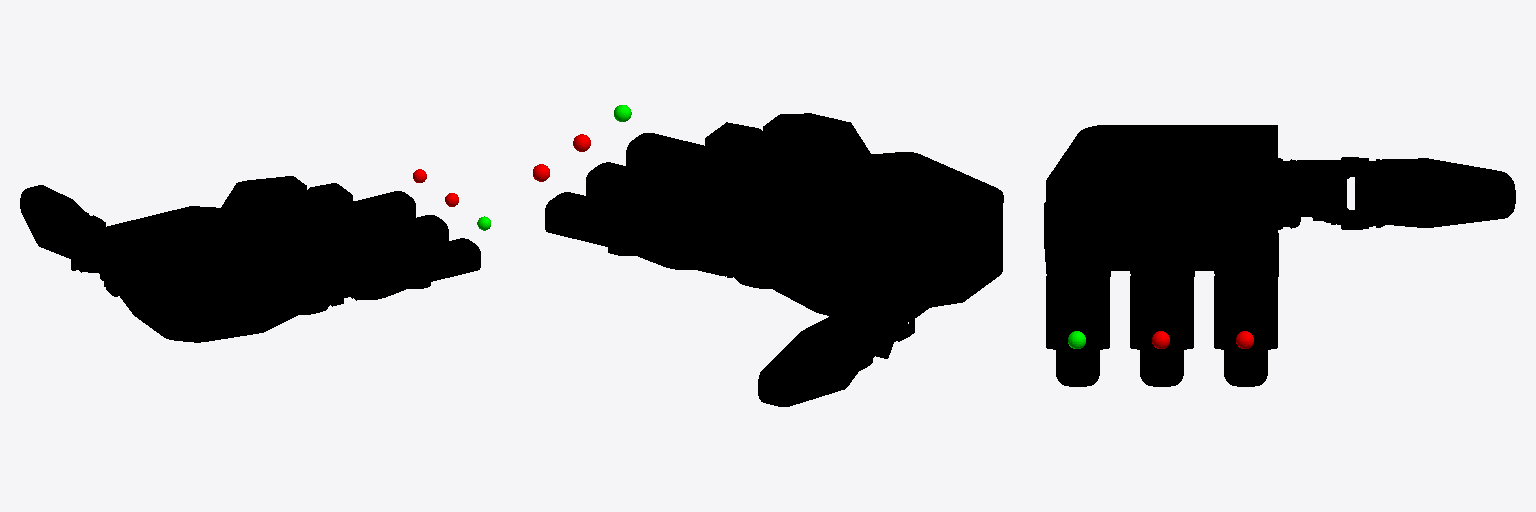
--- Facts derived from the render (not from the file) ---
3 views of the same robot in one strip: view 1: azimuth 30°, elevation 25°; view 2: azimuth 150°, elevation 25°; view 3: azimuth 270°, elevation 25° (orthographic).
Robot: leap_hand_right — 21 links, 20 joints (16 revolute, 4 fixed); root link palm_lower; default pose: all joints at 0.
Visible links, largest first — view 1: palm_lower, mcp_joint_3, thumb_fingertip, dip_3, fingertip_3, mcp_joint, mcp_joint_2, thumb_dip, fingertip, fingertip_2, dip_2, dip; view 2: palm_lower, mcp_joint, thumb_fingertip, dip, mcp_joint_3, mcp_joint_2, fingertip, thumb_dip, fingertip_3, fingertip_2, dip_2, dip_3 (+2 smaller); view 3: palm_lower, thumb_fingertip, thumb_dip, mcp_joint, mcp_joint_2, mcp_joint_3, fingertip, fingertip_2, fingertip_3, dip_2, dip_3, dip.
Link boxes in pixels (box(x1,y1,x2,y2)): palm_lower: box(97, 206, 303, 342); mcp_joint_3: box(286, 223, 370, 314); thumb_fingertip: box(20, 185, 86, 258); dip_3: box(352, 230, 417, 299); fingertip_3: box(399, 238, 480, 288); mcp_joint: box(221, 176, 306, 228); mcp_joint_2: box(254, 200, 338, 251); thumb_dip: box(71, 212, 111, 285); fingertip: box(353, 191, 415, 224); fingertip_2: box(386, 215, 448, 248); dip_2: box(339, 206, 385, 236); dip: box(307, 183, 352, 212); palm_lower: box(767, 152, 1003, 315); mcp_joint: box(682, 173, 788, 288); thumb_fingertip: box(758, 317, 866, 406); dip: box(624, 182, 706, 269); mcp_joint_3: box(763, 113, 870, 180); mcp_joint_2: box(723, 143, 829, 210); fingertip: box(545, 192, 645, 255); thumb_dip: box(829, 289, 907, 370); fingertip_3: box(626, 133, 704, 174); fingertip_2: box(586, 162, 663, 204); dip_2: box(664, 152, 722, 190); dip_3: box(705, 122, 762, 160); palm_lower: box(1046, 125, 1277, 270); thumb_fingertip: box(1355, 158, 1515, 227); thumb_dip: box(1278, 157, 1386, 229); mcp_joint: box(1212, 189, 1278, 276); mcp_joint_2: box(1128, 189, 1194, 276); mcp_joint_3: box(1044, 189, 1110, 276); fingertip: box(1214, 304, 1277, 386); fingertip_2: box(1130, 304, 1193, 386); fingertip_3: box(1046, 304, 1109, 386); dip_2: box(1130, 269, 1193, 313); dip_3: box(1046, 269, 1109, 313); dip: box(1214, 269, 1277, 313).
Size in the robot's own frame: 0.258 by 0.2548 by 0.0632 metres.
17 mesh visuals loaded from 8 distinct referenced files (8 OBJ).

robot.urdf — leap_hand_right:
<robot name="leap_hand_right">
    <link name="palm_lower">
        <visual>
            <origin xyz="-0.020095249652862544332 0.025757756134899473244 -0.034722403578460216134" rpy="0 -0 0" />
            <geometry>
                <mesh filename="meshes/visual/palm_lower.obj"/>
            </geometry>
            <material name="palm_lower_material">
                <color rgba="0 0 0 1.0"/>
            </material>
        </visual>
        <collision>
            <origin xyz="-0.020095249652862544332 0.025757756134899473244 -0.034722403578460216134" rpy="0 -0 0" />
            <geometry>
                <mesh filename="meshes/collision/palm_lower.obj"/>
            </geometry>
        </collision>
        <inertial>
            <origin xyz="0 0 0" rpy="0 0 0"/>
            <mass value="0.237" />
            <inertia ixx="0.000354094" ixy="-0.000001193"  ixz="-0.000002445" iyy="0.000260915" iyz="-0.000002905" izz="0.000529257" />
        </inertial>
    </link>

    <link name="mcp_joint">
        <visual>
            <origin xyz="0.0084069022611744960438 0.0077662438597169954416 0.014657354985032912051" rpy="1.6375789613220999807e-15 -1.0210473302491019535e-30 1.7177968783327987474e-31" />
            <geometry>
                <mesh filename="meshes/visual/mcp_joint.obj"/>
            </geometry>
            <material name="mcp_joint_material">
                <color rgba="0 0 0 1.0"/>
            </material>
        </visual>
        <collision>
            <origin xyz="0.0084069022611744960438 0.0077662438597169954416 0.014657354985032912051" rpy="1.6375789613220999807e-15 -1.0210473302491019535e-30 1.7177968783327987474e-31" />
            <geometry>
                <mesh filename="meshes/collision/mcp_joint.obj"/>
            </geometry>
        </collision>
        <inertial>
            <origin xyz="0 0 0" rpy="0 0 0"/>
            <mass value="0.044" />
            <inertia ixx="0.000011499" ixy="0.000003049"  ixz="0.000000121" iyy="0.000007796" iyz="0.000000112" izz="0.000014759" />
        </inertial>
    </link>

<link name="pip">
    <visual>
        <origin xyz="0.0096433630922713280131 0.00029999999999998951117 0.00078403401041737645627" rpy="-1.570796326794896558 -1.570796326794896336 0" />
        <geometry>
            <mesh filename="meshes/visual/pip.obj"/>
        </geometry>
        <material name="pip_material">
            <color rgba="0 0 0 1.0"/>
        </material>
    </visual>
    <collision>
        <origin xyz="0.0096433630922713280131 0.00029999999999998951117 0.00078403401041737645627" rpy="-1.570796326794896558 -1.570796326794896336 0" />
        <geometry>
            <mesh filename="meshes/collision/pip.obj"/>
        </geometry>
    </collision>
    <inertial>
        <origin xyz="0 0 0" rpy="0 0 0"/>
        <mass value="0.032" />
        <inertia ixx="0.000004798" ixy="0.000000012"  ixz="0.000000004" iyy="0.000002862" iyz="0.000000011" izz="0.000004234" />
    </inertial>
</link>

<link name="dip">
    <visual>
        <origin xyz="0.021133352895225002849 -0.0084321191467048792201 0.0097850881620952408213" rpy="-3.141592653589793116 4.5075111242164408299e-32 4.4395481053923607589e-32" />
        <geometry>
            <mesh filename="meshes/visual/dip.obj"/>
        </geometry>
        <material name="dip_material">
            <color rgba="0 0 0 1.0"/>
        </material>
    </visual>
    <collision>
        <origin xyz="0.021133352895225002849 -0.0084321191467048792201 0.0097850881620952408213" rpy="-3.141592653589793116 4.5075111242164408299e-32 4.4395481053923607589e-32" />
        <geometry>
            <mesh filename="meshes/collision/dip.obj"/>
        </geometry>
    </collision>
    <inertial>
        <origin xyz="0 0 0" rpy="0 0 0"/>
        <mass value="0.037" />
        <inertia ixx="0.000005542" ixy="-0.000000607"  ixz="-0.000000017" iyy="0.000005727" iyz="-0.000000023" izz="0.000006682" />
    </inertial>
</link>

<link name="fingertip">
    <visual>
        <origin xyz="0.013286424108533503169 -0.0061142383865419869249 0.014499999999999497666" rpy="3.141592653589793116 1.1993117970061734707e-33 4.4395481053923607589e-32" />
        <geometry>
            <mesh filename="meshes/visual/fingertip.obj"/>
        </geometry>
        <material name="fingertip_material">
            <color rgba="0 0 0 1.0"/>
        </material>
    </visual>
    <collision>
        <origin xyz="0.013286424108533503169 -0.0061142383865419869249 0.014499999999999497666" rpy="3.141592653589793116 1.1993117970061734707e-33 4.4395481053923607589e-32" />
        <geometry>
            <mesh filename="meshes/collision/fingertip.obj"/>
        </geometry>
    </collision>
    <inertial>
        <origin xyz="0 0 0" rpy="0 0 0"/>
        <mass value="0.016" />
        <inertia ixx="0.000003368" ixy="0.000000115"  ixz="0" iyy="0.000001556" iyz="0" izz="0.000002863" />
    </inertial>
</link>

<joint name="0" type="revolute">
    <origin xyz="-0.012200000000000007713 0.038099999999999994982 0.014500000000000000736" rpy="-1.570796326794896558 -1.0065212660796336576e-15 1.5707963267948943376" />
    <parent link="mcp_joint" />
    <child link="pip" />
    <axis xyz="0 0 -1"/>
    <limit effort="0.95" velocity="8.48" lower = "-1.047" upper = "1.047"/>
    <joint_properties friction="0.0"/>
</joint>

<joint name="1" type="revolute">
    <origin xyz="-0.0070952496528625457958 0.023057756134899472233 -0.01872240357846021927" rpy="1.5707963267948950037 1.5707963267948945596 0" />
    <parent link="palm_lower" />
    <child link="mcp_joint" />
    <axis xyz="0 0 -1"/>
    <limit effort="0.95" velocity="8.48" lower = "-0.314" upper = "2.23"/>
    <joint_properties friction="0.0"/>
</joint>

<joint name="2" type="revolute">
    <origin xyz="0.01499999999999996822 0.014299999999999904801 -0.012999999999999824196" rpy="1.5707963267948958919 -1.570796326794896336 0" />
    <parent link="pip" />
    <child link="dip" />
    <axis xyz="0 0 -1"/>
    <limit effort="0.95" velocity="8.48" lower = "-0.506" upper = "1.885"/>
    <joint_properties friction="0.0"/>
</joint>

<joint name="3" type="revolute">
    <origin xyz="-4.0880582495572692636e-09 -0.036100004210367367397 0.00020000000000007858714" rpy="4.5935029425113685044e-17 -2.8730071914463794583e-16 4.4395481053923607589e-32" />
    <parent link="dip" />
    <child link="fingertip" />
    <axis xyz="0 0 -1"/>
    <limit effort="0.95" velocity="8.48" lower = "-0.366" upper = "2.042"/>
    <joint_properties friction="0.0"/>
</joint>

<link name="mcp_joint_2">
    <visual>
        <origin xyz="0.0084069022611744960438 0.0077662438597169954416 0.014657354985032913786" rpy="1.6375789613220999807e-15 -1.0076465469034000467e-30 2.1209300131419907151e-61" />
        <geometry>
            <mesh filename="meshes/visual/mcp_joint.obj"/>
        </geometry>
        <material name="mcp_joint_material">
            <color rgba="0 0 0 1.0"/>
        </material>
    </visual>
    <collision>
        <origin xyz="0.0084069022611744960438 0.0077662438597169954416 0.014657354985032913786" rpy="1.6375789613220999807e-15 -1.0076465469034000467e-30 2.1209300131419907151e-61" />
        <geometry>
            <mesh filename="meshes/collision/mcp_joint.obj"/>
        </geometry>
    </collision>
    <inertial>
        <origin xyz="0 0 0" rpy="0 0 0"/>
        <mass value="0.044" />
        <inertia ixx="0.000011499" ixy="0.000003049"  ixz="0.000000121" iyy="0.000007796" iyz="0.000000112" izz="0.000014759" />
    </inertial>
</link>

<link name="pip_2">
    <visual>
        <origin xyz="0.0096433630922713280131 0.00029999999999999471534 0.00078403401041737645627" rpy="-1.570796326794896558 -1.570796326794896336 0" />
        <geometry>
            <mesh filename="meshes/visual/pip.obj"/>
        </geometry>
        <material name="pip_material">
            <color rgba="0 0 0 1.0"/>
        </material>
    </visual>
    <collision>
        <origin xyz="0.0096433630922713280131 0.00029999999999999471534 0.00078403401041737645627" rpy="-1.570796326794896558 -1.570796326794896336 0" />
        <geometry>
            <mesh filename="meshes/collision/pip.obj"/>
        </geometry>
    </collision>
    <inertial>
        <origin xyz="0 0 0" rpy="0 0 0"/>
        <mass value="0.032" />
        <inertia ixx="0.000004798" ixy="0.000000012"  ixz="0.000000004" iyy="0.000002862" iyz="0.000000011" izz="0.000004234" />
    </inertial>
</link>

<link name="dip_2">
    <visual>
        <origin xyz="0.021133352895225002849 -0.0084321191467048653423 0.0097850881620952373519" rpy="-3.141592653589793116 2.1146933785271955805e-32 1.4408183216511868558e-31" />
        <geometry>
            <mesh filename="meshes/visual/dip.obj"/>
        </geometry>
        <material name="dip_material">
            <color rgba="0 0 0 1.0"/>
        </material>
    </visual>
    <collision>
        <origin xyz="0.021133352895225002849 -0.0084321191467048653423 0.0097850881620952373519" rpy="-3.141592653589793116 2.1146933785271955805e-32 1.4408183216511868558e-31" />
        <geometry>
            <mesh filename="meshes/collision/dip.obj"/>
        </geometry>
    </collision>
    <inertial>
        <origin xyz="0 0 0" rpy="0 0 0"/>
        <mass value="0.037" />
        <inertia ixx="0.000005542" ixy="-0.000000607"  ixz="-0.000000017" iyy="0.000005727" iyz="-0.000000023" izz="0.000006682" />
    </inertial>
</link>

<link name="fingertip_2">
    <visual>
        <origin xyz="0.01328642410853349623 -0.0061142383865420008027 0.014499999999999495931" rpy="3.141592653589793116 -4.3179597882835943107e-33 1.4408183216511868558e-31" />
        <geometry>
            <mesh filename="meshes/visual/fingertip.obj"/>
        </geometry>
        <material name="fingertip_material">
            <color rgba="0 0 0 1.0"/>
        </material>
    </visual>
    <collision>
        <origin xyz="0.01328642410853349623 -0.0061142383865420008027 0.014499999999999495931" rpy="3.141592653589793116 -4.3179597882835943107e-33 1.4408183216511868558e-31" />
        <geometry>
            <mesh filename="meshes/collision/fingertip.obj"/>
        </geometry>
    </collision>
    <inertial>
        <origin xyz="0 0 0" rpy="0 0 0"/>
        <mass value="0.016" />
        <inertia ixx="0.000003368" ixy="0.000000115"  ixz="0" iyy="0.000001556" iyz="0" izz="0.000002863" />
    </inertial>
</link>

<joint name="4" type="revolute">
    <origin xyz="-0.012200000000000019856 0.038099999999999981104 0.01450000000000000594" rpy="-1.570796326794896558 -1.0065212760057939085e-15 1.5707963267948943376" />
    <parent link="mcp_joint_2" />
    <child link="pip_2" />
    <axis xyz="0 0 -1"/>
    <limit effort="0.95" velocity="8.48" lower = "-1.047" upper = "1.047"/>
    <joint_properties friction="0.0"/>
</joint>

<joint name="5" type="revolute">
    <origin xyz="-0.0070952496528625388569 -0.022392243865100525113 -0.018722403578460229678" rpy="1.570796326794896558 1.570796326794896558 0" />
    <parent link="palm_lower" />
    <child link="mcp_joint_2" />
    <axis xyz="0 0 -1"/>
    <limit effort="0.95" velocity="8.48" lower = "-0.314" upper = "2.23"/>
    <joint_properties friction="0.0"/>
</joint>

<joint name="6" type="revolute">
    <origin xyz="0.014999999999999975159 0.014300000000000000211 -0.013000000000000018485" rpy="1.5707963267948958919 -1.570796326794896336 0" />
    <parent link="pip_2" />
    <child link="dip_2" />
    <axis xyz="0 0 -1"/>
    <limit effort="0.95" velocity="8.48" lower = "-0.506" upper = "1.885"/>
    <joint_properties friction="0.0"/>
</joint>

<joint name="7" type="revolute">
    <origin xyz="1.0061396160665481148e-16 -0.036099999999999854428 0.00020000000000007858714" rpy="4.5935029425113654229e-17 -2.8730071914463794583e-16 1.4408183216511868558e-31" />
    <parent link="dip_2" />
    <child link="fingertip_2" />
    <axis xyz="0 0 -1"/>
    <limit effort="0.95" velocity="8.48" lower = "-0.366" upper = "2.042"/>
    <joint_properties friction="0.0"/>
</joint>

<link name="mcp_joint_3">
    <visual>
        <origin xyz="0.0084069022611744995133 0.0077662438597169963089 0.014657354985032913786" rpy="1.6375789613220999807e-15 -1.0059504988632626953e-30 5.729641584552035421e-32" />
        <geometry>
            <mesh filename="meshes/visual/mcp_joint.obj"/>
        </geometry>
        <material name="mcp_joint_material">
            <color rgba="0 0 0 1.0"/>
        </material>
    </visual>
    <collision>
        <origin xyz="0.0084069022611744995133 0.0077662438597169963089 0.014657354985032913786" rpy="1.6375789613220999807e-15 -1.0059504988632626953e-30 5.729641584552035421e-32" />
        <geometry>
            <mesh filename="meshes/collision/mcp_joint.obj"/>
        </geometry>
    </collision>
    <inertial>
        <origin xyz="0 0 0" rpy="0 0 0"/>
        <mass value="0.044" />
        <inertia ixx="0.000011499" ixy="0.000003049"  ixz="0.000000121" iyy="0.000007796" iyz="0.000000112" izz="0.000014759" />
    </inertial>
</link>

<link name="pip_3">
    <visual>
        <origin xyz="0.0096433630922713314826 0.00029999999999998083755 0.00078403401041737645627" rpy="-1.570796326794896558 -1.570796326794896336 0" />
        <geometry>
            <mesh filename="meshes/visual/pip.obj"/>
        </geometry>
        <material name="pip_material">
            <color rgba="0 0 0 1.0"/>
        </material>
    </visual>
    <collision>
        <origin xyz="0.0096433630922713314826 0.00029999999999998083755 0.00078403401041737645627" rpy="-1.570796326794896558 -1.570796326794896336 0" />
        <geometry>
            <mesh filename="meshes/collision/pip.obj"/>
        </geometry>
    </collision>
    <inertial>
        <origin xyz="0 0 0" rpy="0 0 0"/>
        <mass value="0.032" />
        <inertia ixx="0.000004798" ixy="0.000000012"  ixz="0.000000004" iyy="0.000002862" iyz="0.000000011" izz="0.000004234" />
    </inertial>
</link>

<link name="dip_3">
    <visual>
        <origin xyz="0.021133352895225006318 -0.0084321191467048653423 0.0097850881620952373519" rpy="-3.141592653589793116 -1.4095651113919093005e-33 1.5565411607615035382e-32" />
        <geometry>
            <mesh filename="meshes/visual/dip.obj"/>
        </geometry>
        <material name="dip_material">
            <color rgba="0 0 0 1.0"/>
        </material>
    </visual>
    <collision>
        <origin xyz="0.021133352895225006318 -0.0084321191467048653423 0.0097850881620952373519" rpy="-3.141592653589793116 -1.4095651113919093005e-33 1.5565411607615035382e-32" />
        <geometry>
            <mesh filename="meshes/collision/dip.obj"/>
        </geometry>
    </collision>
    <inertial>
        <origin xyz="0 0 0" rpy="0 0 0"/>
        <mass value="0.037" />
        <inertia ixx="0.000005542" ixy="-0.000000607"  ixz="-0.000000017" iyy="0.000005727" iyz="-0.000000023" izz="0.000006682" />
    </inertial>
</link>

<link name="fingertip_3">
    <visual>
        <origin xyz="0.013286424108533501434 -0.0061142383865419869249 0.0144999999999994994" rpy="3.141592653589793116 8.6170716950575402125e-33 1.5565411607615035382e-32" />
        <geometry>
            <mesh filename="meshes/visual/fingertip.obj"/>
        </geometry>
        <material name="fingertip_material">
            <color rgba="0 0 0 1.0"/>
        </material>
    </visual>
    <collision>
        <origin xyz="0.013286424108533501434 -0.0061142383865419869249 0.0144999999999994994" rpy="3.141592653589793116 8.6170716950575402125e-33 1.5565411607615035382e-32" />
        <geometry>
            <mesh filename="meshes/collision/fingertip.obj"/>
        </geometry>
    </collision>
    <inertial>
        <origin xyz="0 0 0" rpy="0 0 0"/>
        <mass value="0.016" />
        <inertia ixx="0.000003368" ixy="0.000000115"  ixz="0" iyy="0.000001556" iyz="0" izz="0.000002863" />
    </inertial>
</link>

<joint name="8" type="revolute">
    <origin xyz="-0.012200000000000004244 0.038100000000000001921 0.014499999999999999001" rpy="-1.570796326794896558 -1.0065212660796360242e-15 1.5707963267948943376" />
    <parent link="mcp_joint_3" />
    <child link="pip_3" />
    <axis xyz="0 0 -1"/>
    <limit effort="0.95" velocity="8.48" lower = "-1.047" upper = "1.047"/>
    <joint_properties friction="0.0"/>
</joint>

<joint name="9" type="revolute">
    <origin xyz="-0.0070952454426398371343 -0.067842243865100515521 -0.018722407666402932774" rpy="1.5707963267948950037 1.5707963267948945596 0" />
    <parent link="palm_lower" />
    <child link="mcp_joint_3" />
    <axis xyz="0 0 -1"/>
    <limit effort="0.95" velocity="8.48" lower = "-0.314" upper = "2.23"/>
    <joint_properties friction="0.0"/>
</joint>

<joint name="10" type="revolute">
    <origin xyz="0.014999999999999971689 0.014299999999999951639 -0.012999999999999959505" rpy="1.5707963267948958919 -1.570796326794896336 0" />
    <parent link="pip_3" />
    <child link="dip_3" />
    <axis xyz="0 0 -1"/>
    <limit effort="0.95" velocity="8.48" lower = "-0.506" upper = "1.885"/>
    <joint_properties friction="0.0"/>
</joint>

<joint name="11" type="revolute">
    <origin xyz="9.7144514654701197287e-17 -0.036099999999999868305 0.00020000000000007511769" rpy="4.5935029425113685044e-17 -2.8730071914463799514e-16 1.5565411607615035382e-32" />
    <parent link="dip_3" />
    <child link="fingertip_3" />
    <axis xyz="0 0 -1"/>
    <limit effort="0.95" velocity="8.48" lower = "-0.366" upper = "2.042"/>
    <joint_properties friction="0.0"/>
</joint>

<link name="pip_4">
    <visual>
        <origin xyz="-0.0053566369077286714317 0.00029999999999999991951 0.00078403401041737819099" rpy="-1.570796326794896558 -1.570796326794896336 0" />
        <geometry>
            <mesh filename="meshes/visual/pip.obj"/>
        </geometry>
        <material name="pip_material">
            <color rgba="0 0 0 1.0"/>
        </material>
    </visual>
    <collision>
        <origin xyz="-0.0053566369077286714317 0.00029999999999999991951 0.00078403401041737819099" rpy="-1.570796326794896558 -1.570796326794896336 0" />
        <geometry>
            <mesh filename="meshes/collision/pip.obj"/>
        </geometry>
    </collision>
    <inertial>
        <origin xyz="0 0 0" rpy="0 0 0"/>
        <mass value="0.032" />
        <inertia ixx="0.000004798" ixy="0.000000012"  ixz="0.000000004" iyy="0.000002862" iyz="0.000000011" izz="0.000004234" />
    </inertial>
</link>

<link name="thumb_pip">
    <visual>
        <origin xyz="0.011961920770611186859 -5.3082538364890297089e-16 -0.015852648956664199681" rpy="1.570796326794896558 1.6050198443300152637e-46 -3.9204996250525192755e-59" />
        <geometry>
            <mesh filename="meshes/visual/thumb_pip.obj"/>
        </geometry>
        <material name="thumb_pip_material">
            <color rgba="0 0 0 1.0"/>
        </material>
    </visual>
    <collision>
        <origin xyz="0.011961920770611186859 -5.3082538364890297089e-16 -0.015852648956664199681" rpy="1.570796326794896558 1.6050198443300152637e-46 -3.9204996250525192755e-59" />
        <geometry>
        <mesh filename="meshes/collision/thumb_pip.obj"/>
        </geometry>
    </collision>
    <inertial>
        <origin xyz="0 0 0" rpy="0 0 0"/>
        <mass value="0.003" />
        <inertia ixx="0.000000593" ixy="0"  ixz="0" iyy="0.000000549" iyz="0" izz="0.000000224" />
    </inertial>
</link>

<link name="thumb_dip">
    <visual>
        <origin xyz="0.043968715707239175439 0.057952952973709198625 -0.0086286764493694757122" rpy="1.9428902930940098942e-16 3.2751579226442200773e-15 1.1123758529657360012e-46" />
        <geometry>
            <mesh filename="meshes/visual/thumb_dip.obj"/>
        </geometry>
        <material name="thumb_dip_material">
            <color rgba="0 0 0 1.0"/>
        </material>
    </visual>
    <collision>
        <origin xyz="0.043968715707239175439 0.057952952973709198625 -0.0086286764493694757122" rpy="1.9428902930940098942e-16 3.2751579226442200773e-15 1.1123758529657360012e-46" />
        <geometry>
            <mesh filename="meshes/collision/thumb_dip.obj"/>
        </geometry>
    </collision>
    <inertial>
        <origin xyz="0 0 0" rpy="0 0 0"/>
        <mass value="0.038" />
        <inertia ixx="0.000008474" ixy="0.000000241"  ixz="0.000000026" iyy="0.000003841" iyz="0.000000025" izz="0.000007679" />
    </inertial>
</link>

<link name="thumb_fingertip">
    <visual>
        <origin xyz="0.062559538462667388381 0.078459682911396988469 0.048992911807332215068" rpy="4.3790577010156367543e-47 -3.3306690738754701143e-16 1.2042408677791935383e-46" />
        <geometry>
            <mesh filename="meshes/visual/thumb_fingertip.obj"/>
        </geometry>
        <material name="thumb_fingertip_material">
            <color rgba="0 0 0 1.0"/>
        </material>
    </visual>
    <collision>
        <origin xyz="0.062559538462667388381 0.078459682911396988469 0.048992911807332215068" rpy="4.3790577010156367543e-47 -3.3306690738754701143e-16 1.2042408677791935383e-46" />
        <geometry>
            <mesh filename="meshes/collision/thumb_fingertip.obj"/>
        </geometry>
    </collision>
    <inertial>
        <origin xyz="0 0 0" rpy="0 0 0"/>
        <mass value="0.049" />
        <inertia ixx="0.000020372" ixy="-0.000000489"  ixz="-0.00000003" iyy="0.000004336" iyz="-0.000000097" izz="0.000019845" />
    </inertial>
</link>

<joint name="12" type="revolute">
    <origin xyz="-0.069395249652862533996 -0.0012422438651005258004 -0.021622403578460215601" rpy="-8.2381766464939424156e-17 1.5707963267948956698 0" />
    <parent link="palm_lower" />
    <child link="pip_4" />
    <axis xyz="0 0 -1"/>
    <limit effort="0.95" velocity="8.48" lower = "-0.349" upper = "2.094"/>
    <joint_properties friction="0.0"/>
</joint>

<joint name="13" type="revolute">
    <origin xyz="-2.7755575615628913511e-17 0.014300000000000005415 -0.013000000000000011546" rpy="1.5707963267948958919 -1.570796326794896336 0" />
    <parent link="pip_4" />
    <child link="thumb_pip" />
    <axis xyz="0 0 -1"/>
    <limit effort="0.95" velocity="8.48" lower = "-0.47" upper = "2.443"/>
    <joint_properties friction="0.0"/>
</joint>

<joint name="14" type="revolute">
    <origin xyz="0 0.014499999999999966041 -0.017000000000000053263" rpy="-1.570796326794896558 1.6050198443300131245e-46 -1.9721522630516624601e-31" />
    <parent link="thumb_pip" />
    <child link="thumb_dip" />
    <axis xyz="0 0 -1"/>
    <limit effort="0.95" velocity="8.48" lower = "-1.20" upper = "1.90"/>
    <joint_properties friction="0.0"/>
</joint>

<joint name="15" type="revolute">
    <origin xyz="-1.249000902703301108e-16 0.046599999999999863753 0.00019999999999997710581" rpy="1.5063958491491781023e-44 5.4234187233935260503e-31 3.141592653589793116" />
    <parent link="thumb_dip" />
    <child link="thumb_fingertip" />
    <axis xyz="0 0 -1"/>
    <limit effort="0.95" velocity="8.48" lower = "-1.34" upper = "1.88"/>
    <joint_properties friction="0.0"/>
</joint>

<link name="realtip">
    <visual>
        <origin xyz="0 0 0" rpy="0 0 0" />
        <geometry>
            <sphere radius="0.005"/>
        </geometry>
        <material name="ball_material">
            <color rgba="1 0 0 1"/>
        </material>
    </visual>
    <collision>
        <origin xyz="0 0 0" rpy="0 0 0" />
        <geometry>
            <sphere radius="0.005"/>
        </geometry>
    </collision>
    <inertial>
        <origin xyz="0 0 0" rpy="0 0 0"/>
        <mass value="0.1"/>
        <inertia ixx="0.000025" ixy="0" ixz="0" iyy="0.000025" iyz="0" izz="0.000025"/>
    </inertial>
</link>

<joint name="16" type="fixed">
    <origin xyz="0.02 -0.07 0.015" rpy="4.5935029425113685044e-17 -2.8730071914463794583e-16 4.4395481053923607589e-32" />
    <parent link="fingertip" />
    <child link="realtip" />
    <axis xyz="0 0 -1"/>
    <limit effort="0.95" velocity="8.48" lower = "-0.366" upper = "2.042"/>
    <joint_properties friction="0.0"/>
</joint>

<link name="realtip_2">
    <visual>
        <origin xyz="0 0 0" rpy="0 0 0" />
        <geometry>
            <sphere radius="0.005"/>
        </geometry>
        <material name="ball_material">
            <color rgba="1 0 0 1"/>
        </material>
    </visual>
    <collision>
        <origin xyz="0 0 0" rpy="0 0 0" />
        <geometry>
            <sphere radius="0.005"/>
        </geometry>
    </collision>
    <inertial>
        <origin xyz="0 0 0" rpy="0 0 0"/>
        <mass value="0.1"/>
        <inertia ixx="0.000025" ixy="0" ixz="0" iyy="0.000025" iyz="0" izz="0.000025"/>
    </inertial>
</link>

<joint name="17" type="fixed">
    <origin xyz="0.02 -0.07 0.015" rpy="4.5935029425113685044e-17 -2.8730071914463794583e-16 4.4395481053923607589e-32" />
    <parent link="fingertip_2" />
    <child link="realtip_2" />
    <axis xyz="0 0 -1"/>
    <limit effort="0.95" velocity="8.48" lower = "-0.366" upper = "2.042"/>
    <joint_properties friction="0.0"/>
</joint>


<link name="realtip_3">
    <visual>
        <origin xyz="0 0 0" rpy="0 0 0" />
        <geometry>
            <sphere radius="0.005"/>
        </geometry>
        <material name="ball_material">
            <color rgba="0 1 0 1"/>
        </material>
    </visual>
    <collision>
        <origin xyz="0 0 0" rpy="0 0 0" />
        <geometry>
            <sphere radius="0.005"/>
        </geometry>
    </collision>
    <inertial>
        <origin xyz="0 0 0" rpy="0 0 0"/>
        <mass value="0.1"/>
        <inertia ixx="0.000025" ixy="0" ixz="0" iyy="0.000025" iyz="0" izz="0.000025"/>
    </inertial>
</link>

<joint name="18" type="fixed">
    <origin xyz="0.02 -0.07 0.015" rpy="4.5935029425113685044e-17 -2.8730071914463794583e-16 4.4395481053923607589e-32" />
    <parent link="fingertip_3" />
    <child link="realtip_3" />
    <axis xyz="0 0 -1"/>
    <limit effort="0.95" velocity="8.48" lower = "-0.366" upper = "2.042"/>
    <joint_properties friction="0.0"/>
</joint>


<link name="realtip_4">
    <visual>
        <origin xyz="0 0 0" rpy="0 0 0" />
        <geometry>
            <sphere radius="0.005"/>
        </geometry>
        <material name="ball_material">
            <color rgba="0 1 0 1"/>
        </material>
    </visual>
    <collision>
        <origin xyz="0 0 0" rpy="0 0 0" />
        <geometry>
            <sphere radius="0.005"/>
        </geometry>
    </collision>
    <inertial>
        <origin xyz="0 0 0" rpy="0 0 0"/>
        <mass value="0.1"/>
        <inertia ixx="0.000025" ixy="0" ixz="0" iyy="0.000025" iyz="0" izz="0.000025"/>
    </inertial>
</link>

<joint name="19" type="fixed">
    <origin xyz="0.00 -0.07 -0.015" rpy="4.5935029425113685044e-17 -2.8730071914463794583e-16 4.4395481053923607589e-32" />
    <parent link="thumb_fingertip" />
    <child link="realtip_4" />
    <axis xyz="0 0 -1"/>
    <limit effort="0.95" velocity="8.48" lower = "-0.366" upper = "2.042"/>
    <joint_properties friction="0.0"/>
</joint>

</robot>
